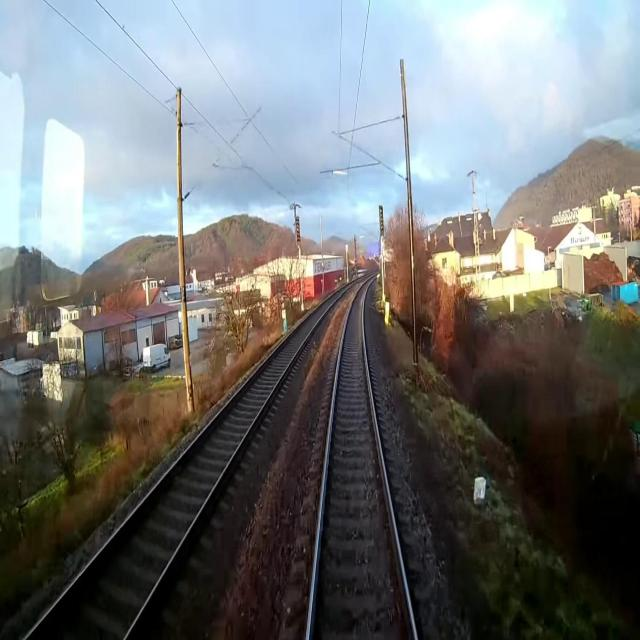rail-track: (26, 283, 351, 639), (309, 279, 414, 639)
